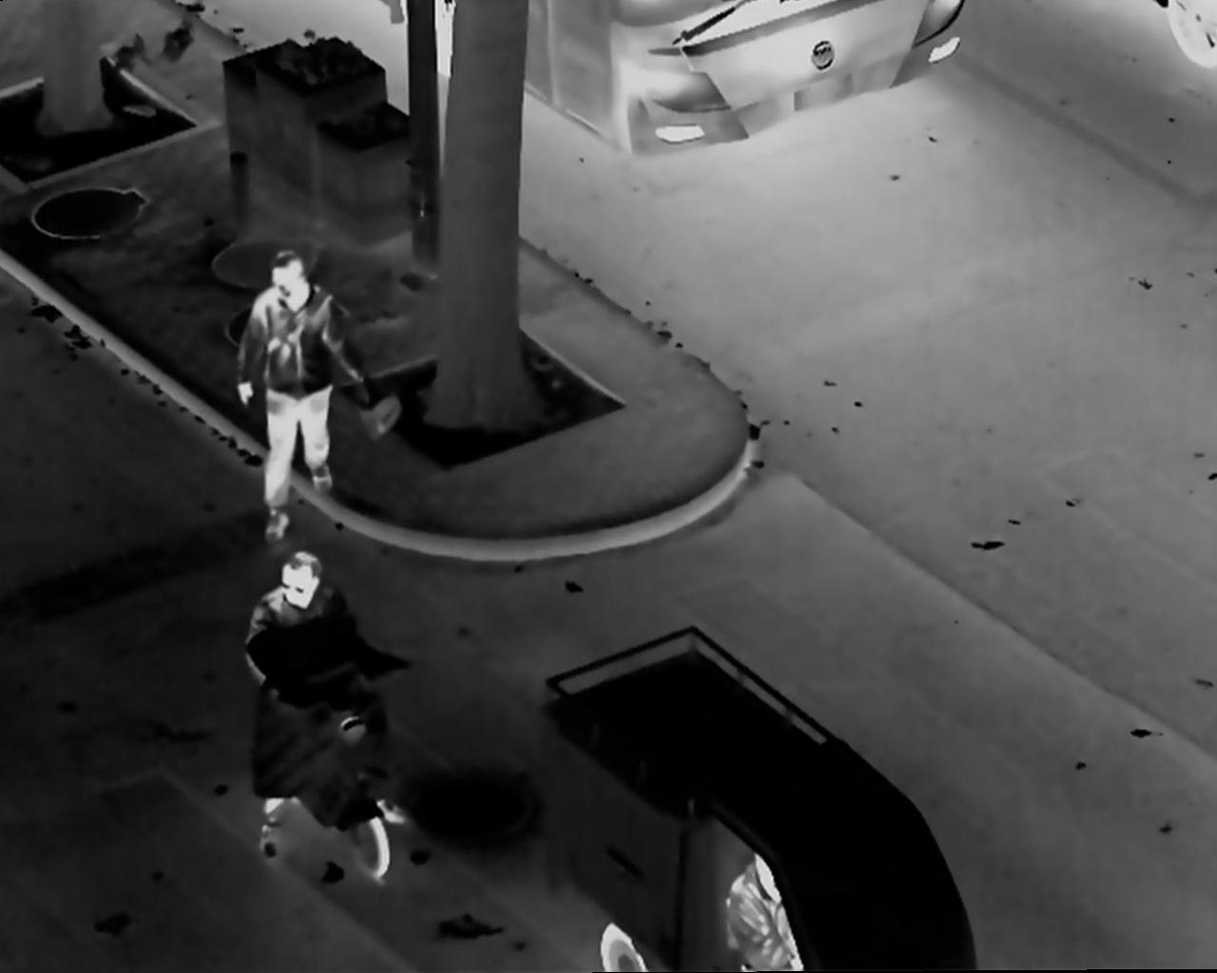person: (240, 549, 415, 870), (232, 248, 388, 538), (729, 849, 807, 973)
